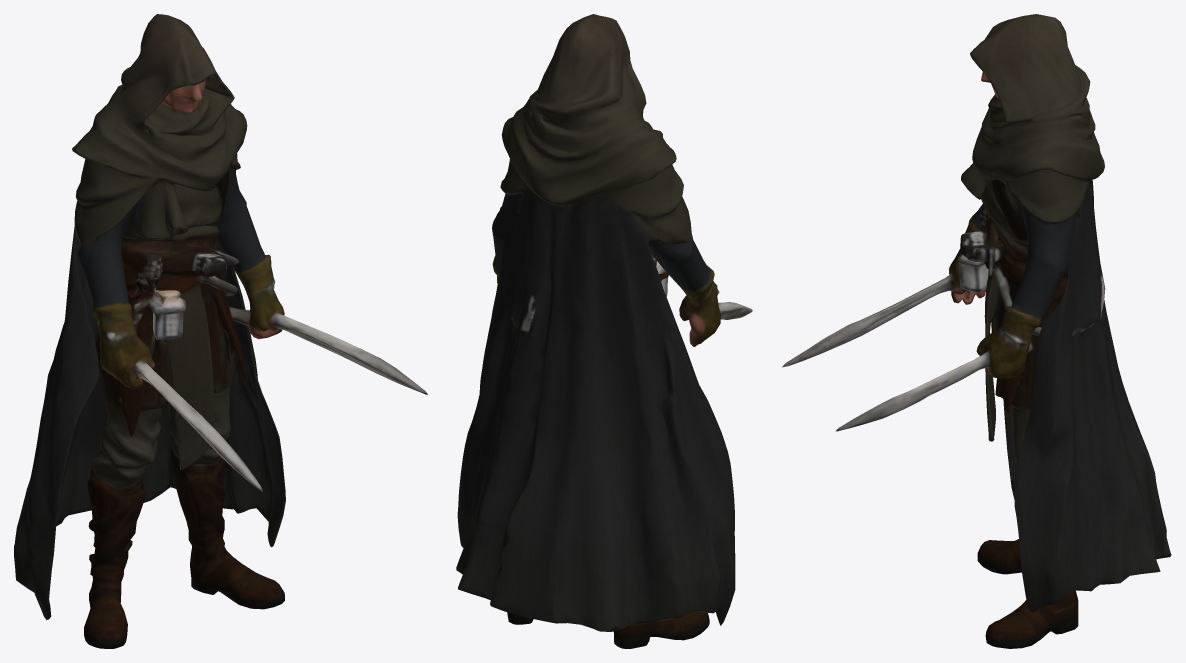
File: grey.glb
The picture shows the model from 3 angles, left to right: view 1: azimuth 30°, elevation 25°; view 2: azimuth 150°, elevation 25°; view 3: azimuth 270°, elevation 25°; orthographic projection. The views are drawn at different scales.
Visible parts, largest first — view 1: world; view 2: world; view 3: world.
Part boxes in pixels (x1,y1,x2,y2): world: [14, 14, 427, 648]; world: [456, 14, 752, 648]; world: [782, 14, 1171, 648].
Bounding box in the file's own units: 0.5321 × 1 × 0.6014.
Materials: 1 (1 with a texture image).
